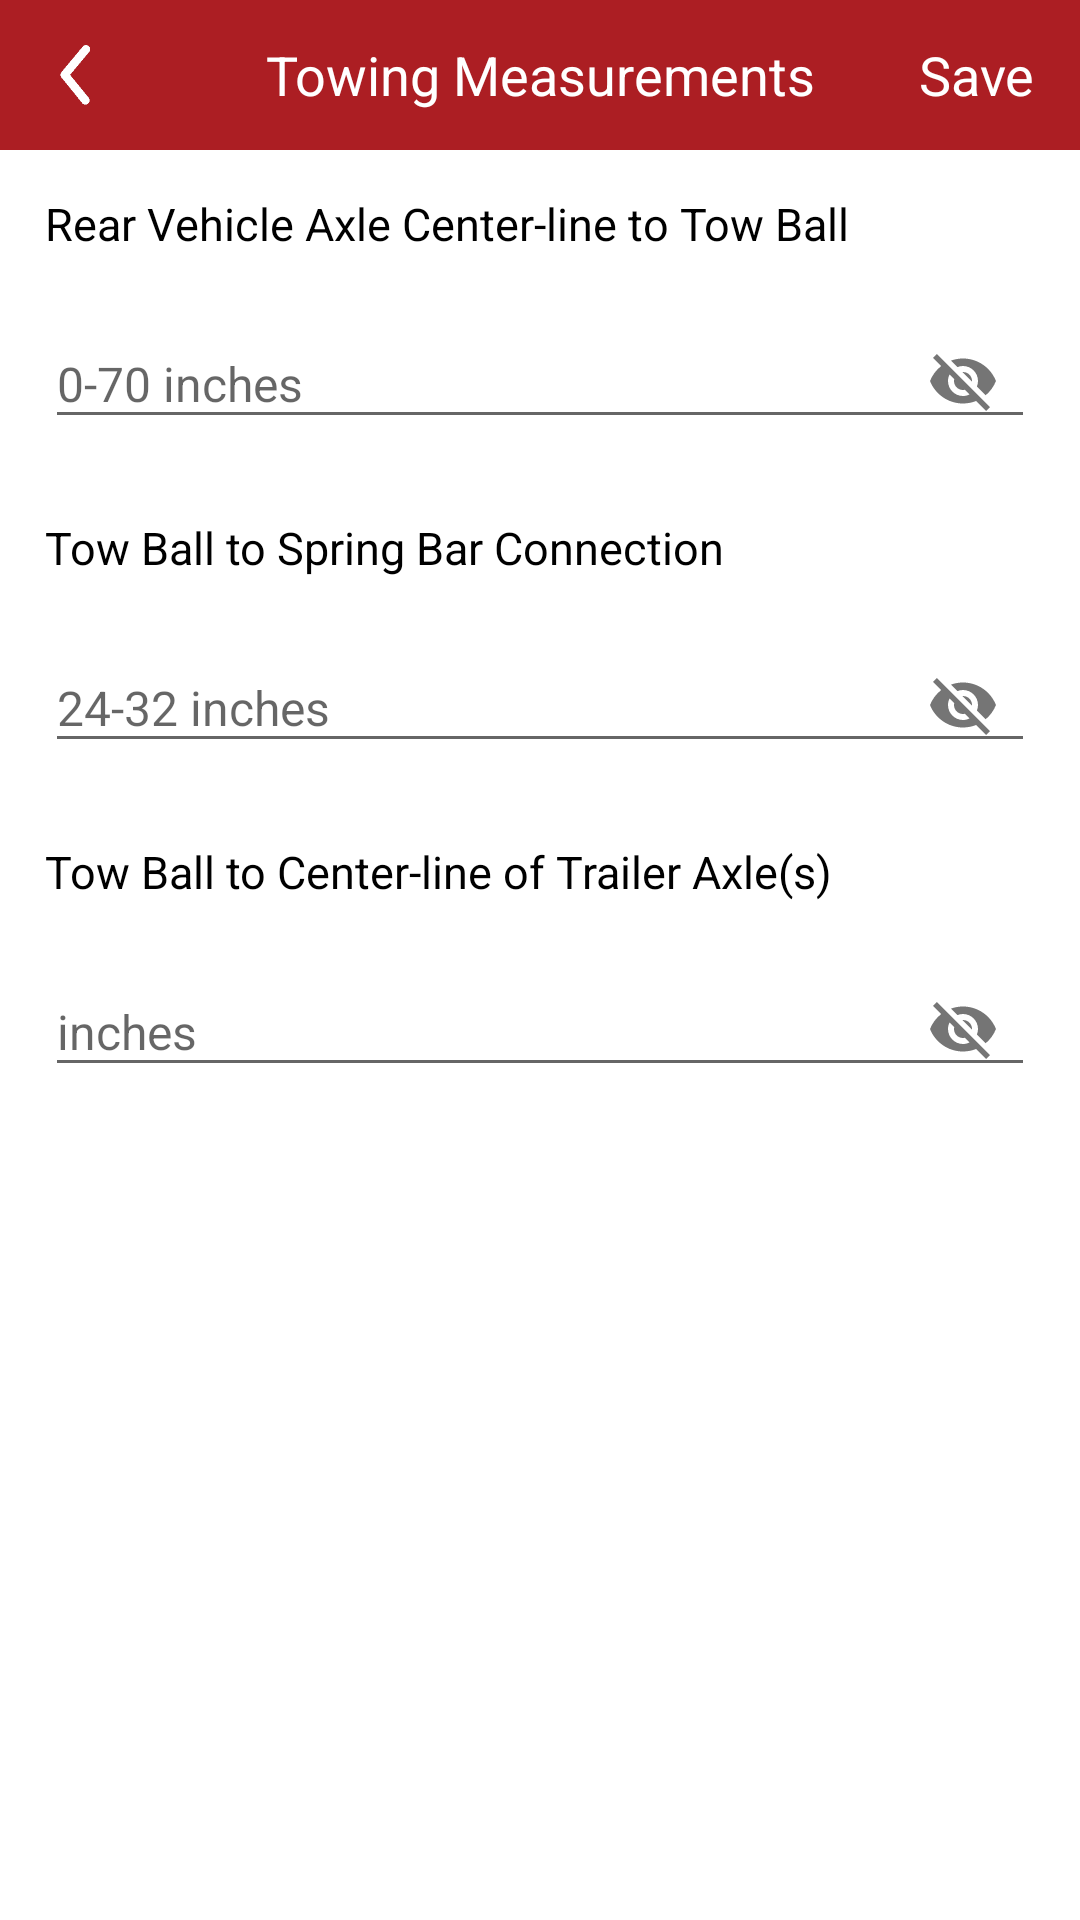

Locate icon controls on the screen. Image size 1080x1920, boxes as [x1=x1, y1=y1, x2=x2, y2=y2].
back: [x1=60, y1=45, x2=90, y2=105]
